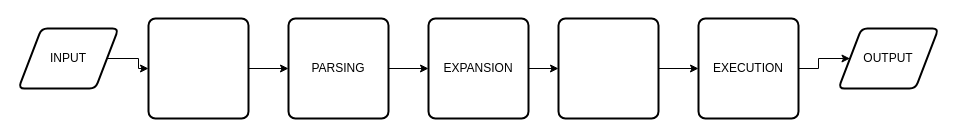
Some shapes in this 956 by 136 pixel diagram are drawn without their labels. The centre of each missing label's shape, as x and y in pixels:
REDIRECTIONS: (608,68)
TOKENIZATION: (198,68)
